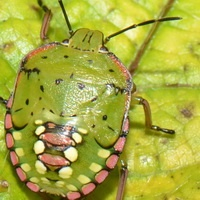insect: (121, 0, 199, 199), (63, 0, 167, 35), (106, 24, 152, 66), (80, 168, 118, 199)
